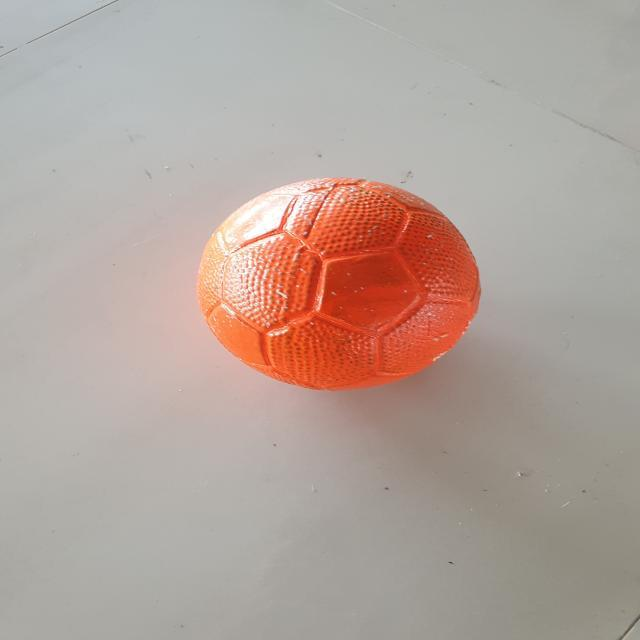bola: (181, 166, 500, 404)
